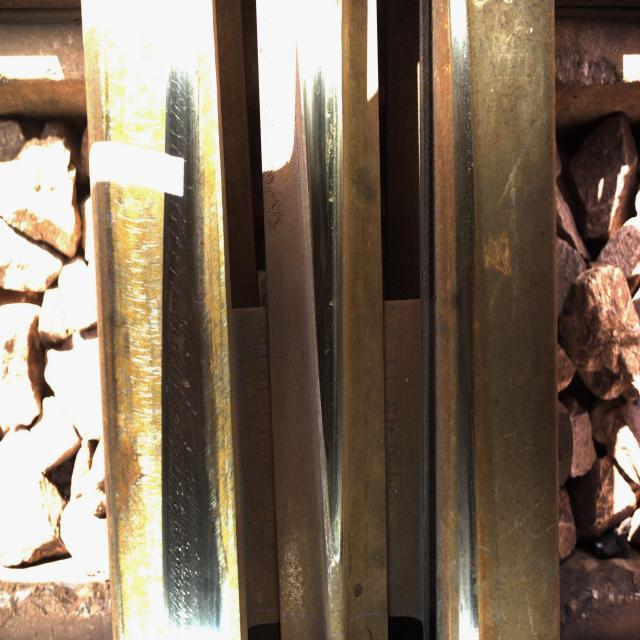normal: (165, 222, 219, 604)
